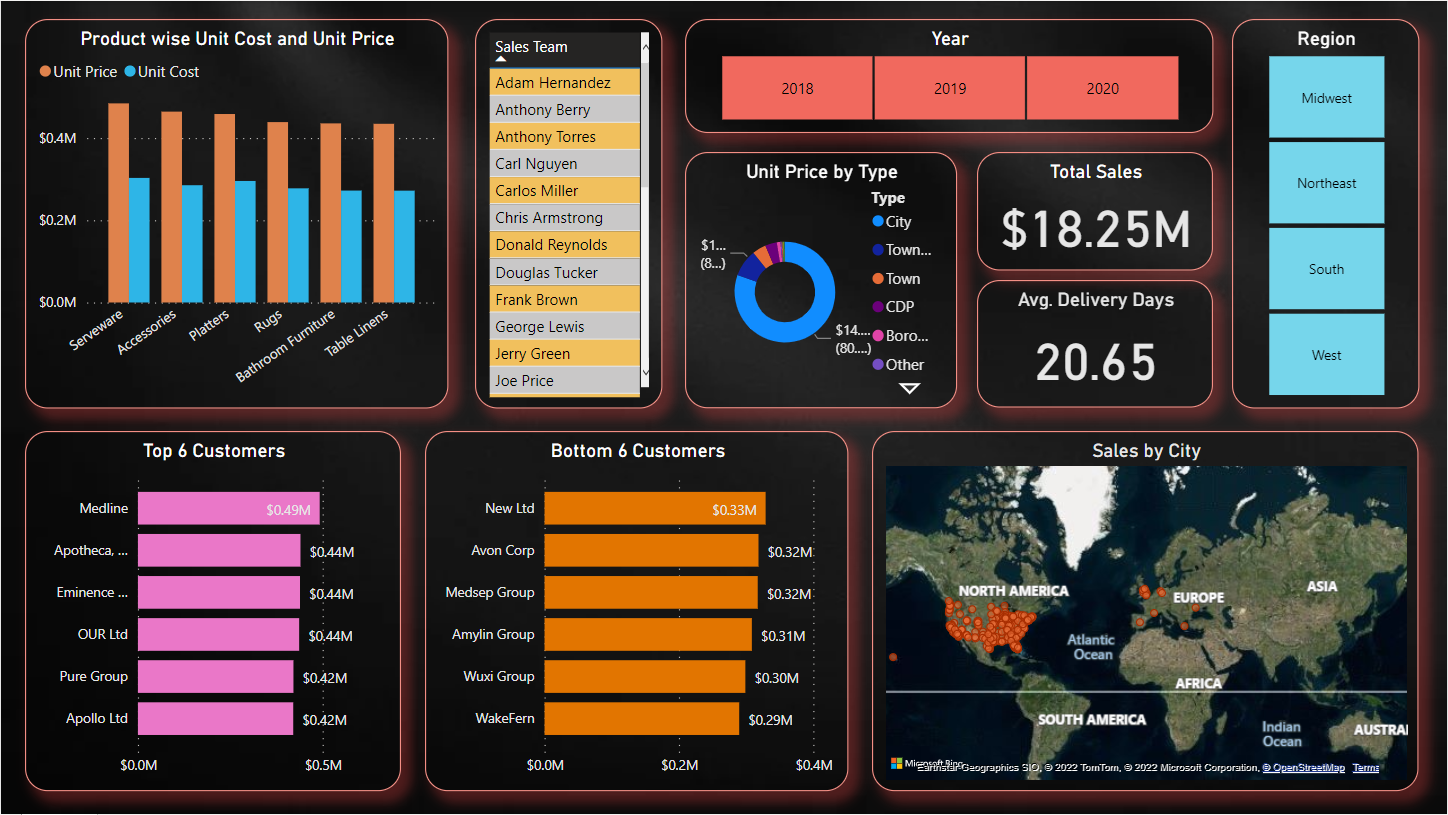

This screenshot's page, from the dashboard's own definition file:
{"tool":"powerbi","page":{"name":"Page 1","canvas":[1280,720],"ordinal":0},"visuals":[{"type":"card","title":"Total Sales","fields":{"Values":["Sum(Sales.Unit Price)"]},"box":[864.4,133.7,209,105.4],"z":0},{"type":"slicer","title":"Year","fields":{"Values":["Sales.Year"]},"box":[605.8,15.9,467.6,101],"z":1000},{"type":"lineClusteredColumnComboChart","title":"Product wise Unit Cost and Unit Price","fields":{"Category":["Products.Product Name"],"Y":["Sum(Sales.Unit Price)","Sum(Sales.Unit Cost)"]},"box":[21.3,15.9,374.6,344.5],"z":2000},{"type":"clusteredBarChart","title":"Bottom 6 Customers","fields":{"Y":["Sum(Sales.Unit Price)"],"Category":["Customers.Customer Names"]},"box":[375.5,380.8,375.5,318.8],"z":3000},{"type":"map","title":"Sales by City","fields":{"Category":["Locations.City Name"]},"box":[771.4,380.8,484.4,318.8],"z":4000},{"type":"card","title":"Avg. Delivery Days","fields":{"Values":["Avg(Sales.Delivery Days)"]},"box":[864.4,247.1,209,113.4],"z":5000},{"type":"tableEx","fields":{"Values":["Sales_Team.Sales Team"]},"box":[419.8,15.9,166.5,344.5],"z":6000},{"type":"clusteredBarChart","title":"Top 6 Customers","fields":{"Y":["Sum(Sales.Unit Price)"],"Category":["Customers.Customer Names"]},"box":[21.3,380.8,333,318.8],"z":7000},{"type":"donutChart","fields":{"Category":["Locations.Type"],"Y":["Sum(Sales.Unit Price)"]},"box":[605.8,133.7,240.9,226.7],"z":8000},{"type":"slicer","title":"Region","fields":{"Values":["State_Regions.Region"]},"box":[1093.7,15.8,162.4,344.9],"z":9000}]}

Visuals, with their boxes in screenshot pixels (x1, y1, x2, y2), scaled from the page's 1280x720 canvas onto the 1448x815 screenshot:
"Total Sales" card: bbox=(978, 151, 1214, 271)
"Year" slicer: bbox=(685, 18, 1214, 132)
"Product wise Unit Cost and Unit Price" lineClusteredColumnComboChart: bbox=(24, 18, 448, 408)
"Bottom 6 Customers" clusteredBarChart: bbox=(425, 431, 850, 792)
"Sales by City" map: bbox=(873, 431, 1421, 792)
"Avg. Delivery Days" card: bbox=(978, 280, 1214, 408)
tableEx - Sales_Team.Sales Team: bbox=(475, 18, 663, 408)
"Top 6 Customers" clusteredBarChart: bbox=(24, 431, 401, 792)
donutChart - Locations.Type x Sum(Sales.Unit Price): bbox=(685, 151, 958, 408)
"Region" slicer: bbox=(1237, 18, 1421, 408)
